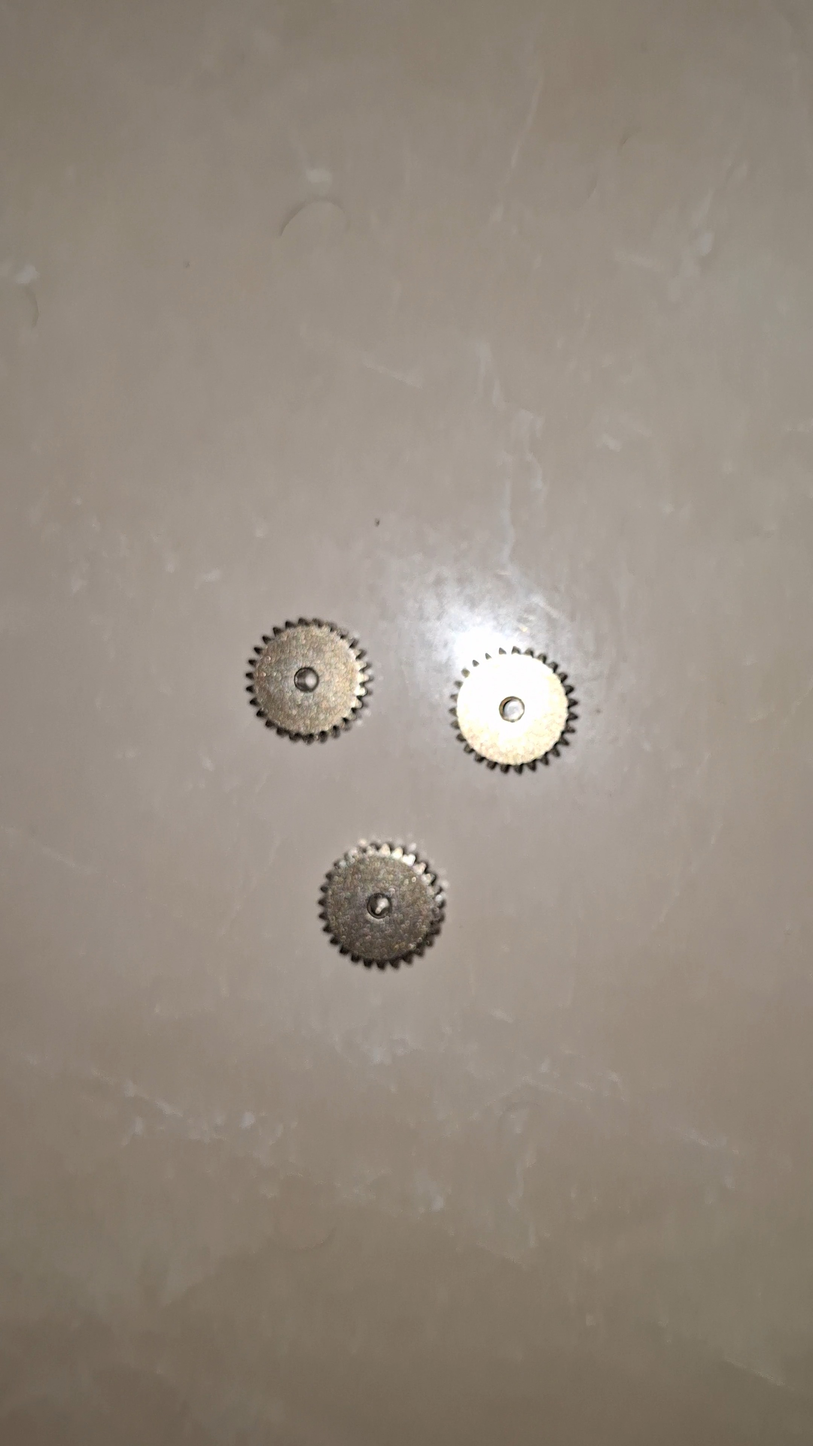spur gear: (320, 843, 445, 969), (452, 647, 577, 772), (247, 619, 369, 741)
